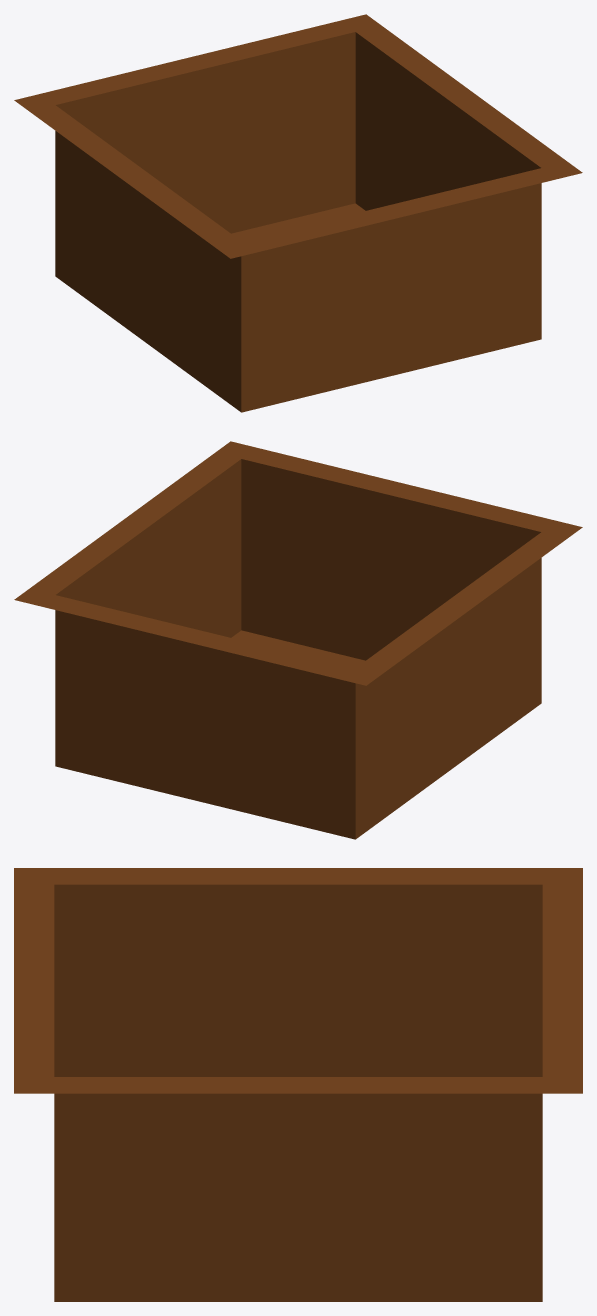
File: DiceRoller.fbx
The picture shows the model from 3 angles, top to bottom: view 1: azimuth 30°, elevation 25°; view 2: azimuth 150°, elevation 25°; view 3: azimuth 270°, elevation 25°; orthographic projection. The views are drawn at different scales.
Visible parts, largest first — view 1: Plano; view 2: Plano; view 3: Plano.
Part boxes in pixels (x1,y1,x2,y2): Plano: (14, 14, 582, 412); Plano: (14, 441, 582, 839); Plano: (14, 868, 582, 1301).
Size of the model in its own units: 190 by 88.43 by 203.
